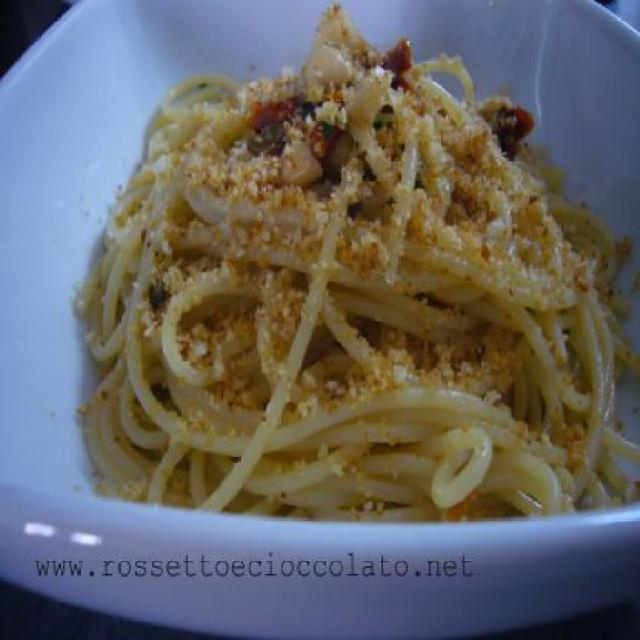Oil pasta: (90, 45, 610, 518)
